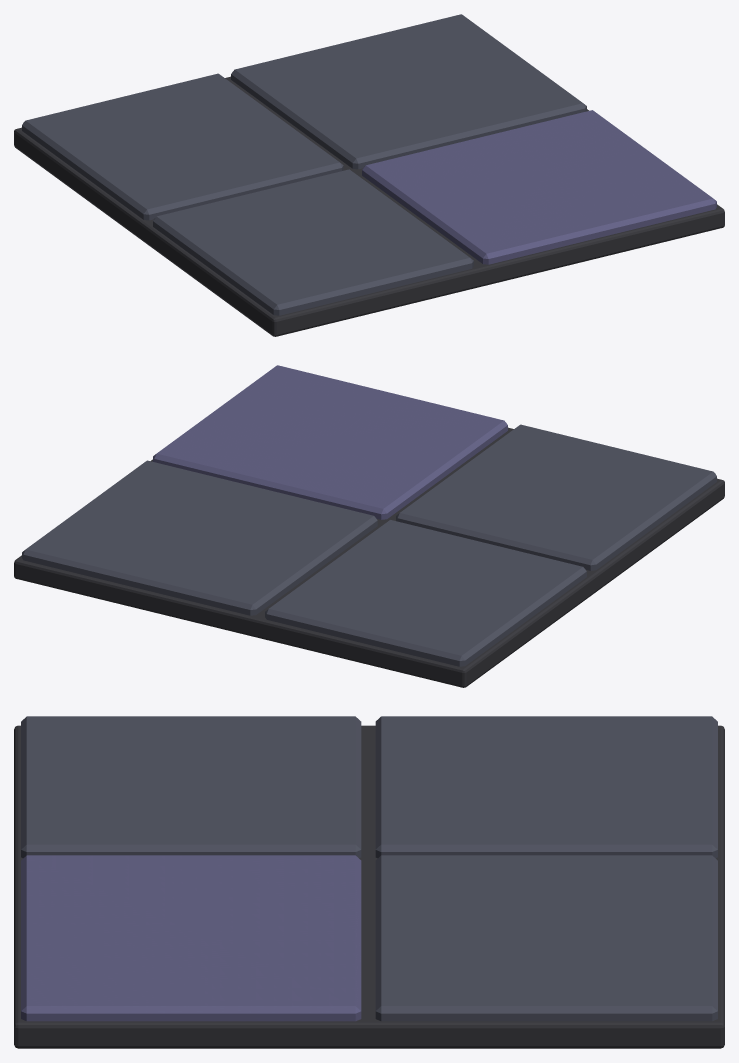
The model's file is basalt-floor.glb.
3 renders of one model, top to bottom at view 1: azimuth 30°, elevation 25°; view 2: azimuth 150°, elevation 25°; view 3: azimuth 270°, elevation 25°, orthographic. The views are drawn at different scales.
Visible parts, largest first — view 1: basalt-floor; view 2: basalt-floor; view 3: basalt-floor.
Part boxes in pixels (x1,y1,x2,y2): basalt-floor: [14, 14, 724, 336]; basalt-floor: [14, 365, 724, 687]; basalt-floor: [14, 716, 724, 1048].
Size of the model in its own units: 1 by 0.06 by 1.
1 material, 1 textured.
